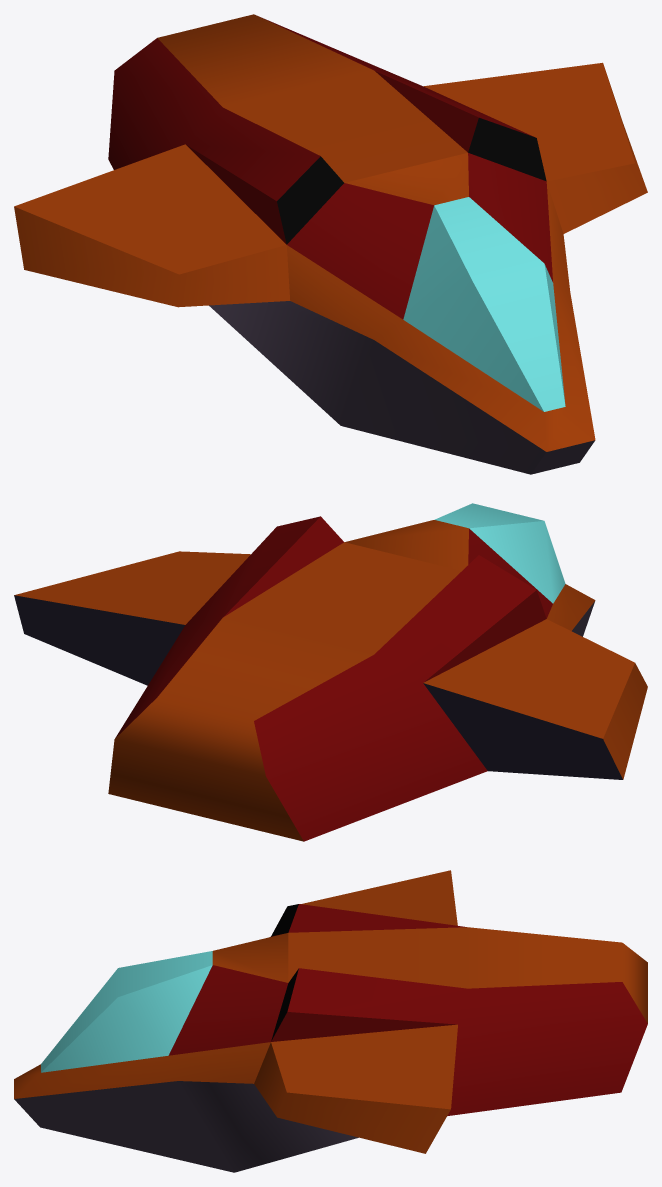
File: ShipCivilian.fbx
The picture shows the model from 3 angles, top to bottom: view 1: azimuth 30°, elevation 25°; view 2: azimuth 150°, elevation 25°; view 3: azimuth 270°, elevation 25°; orthographic projection. The views are drawn at different scales.
Visible parts, largest first — view 1: ShipCivilian; view 2: ShipCivilian; view 3: ShipCivilian.
Boxes of the visible parts, x1=… form: ShipCivilian: x1=14, y1=14, x2=647, y2=474; ShipCivilian: x1=14, y1=503, x2=647, y2=841; ShipCivilian: x1=14, y1=870, x2=647, y2=1172.
Bounding box in the file's own units: 205 × 77.35 × 226.
